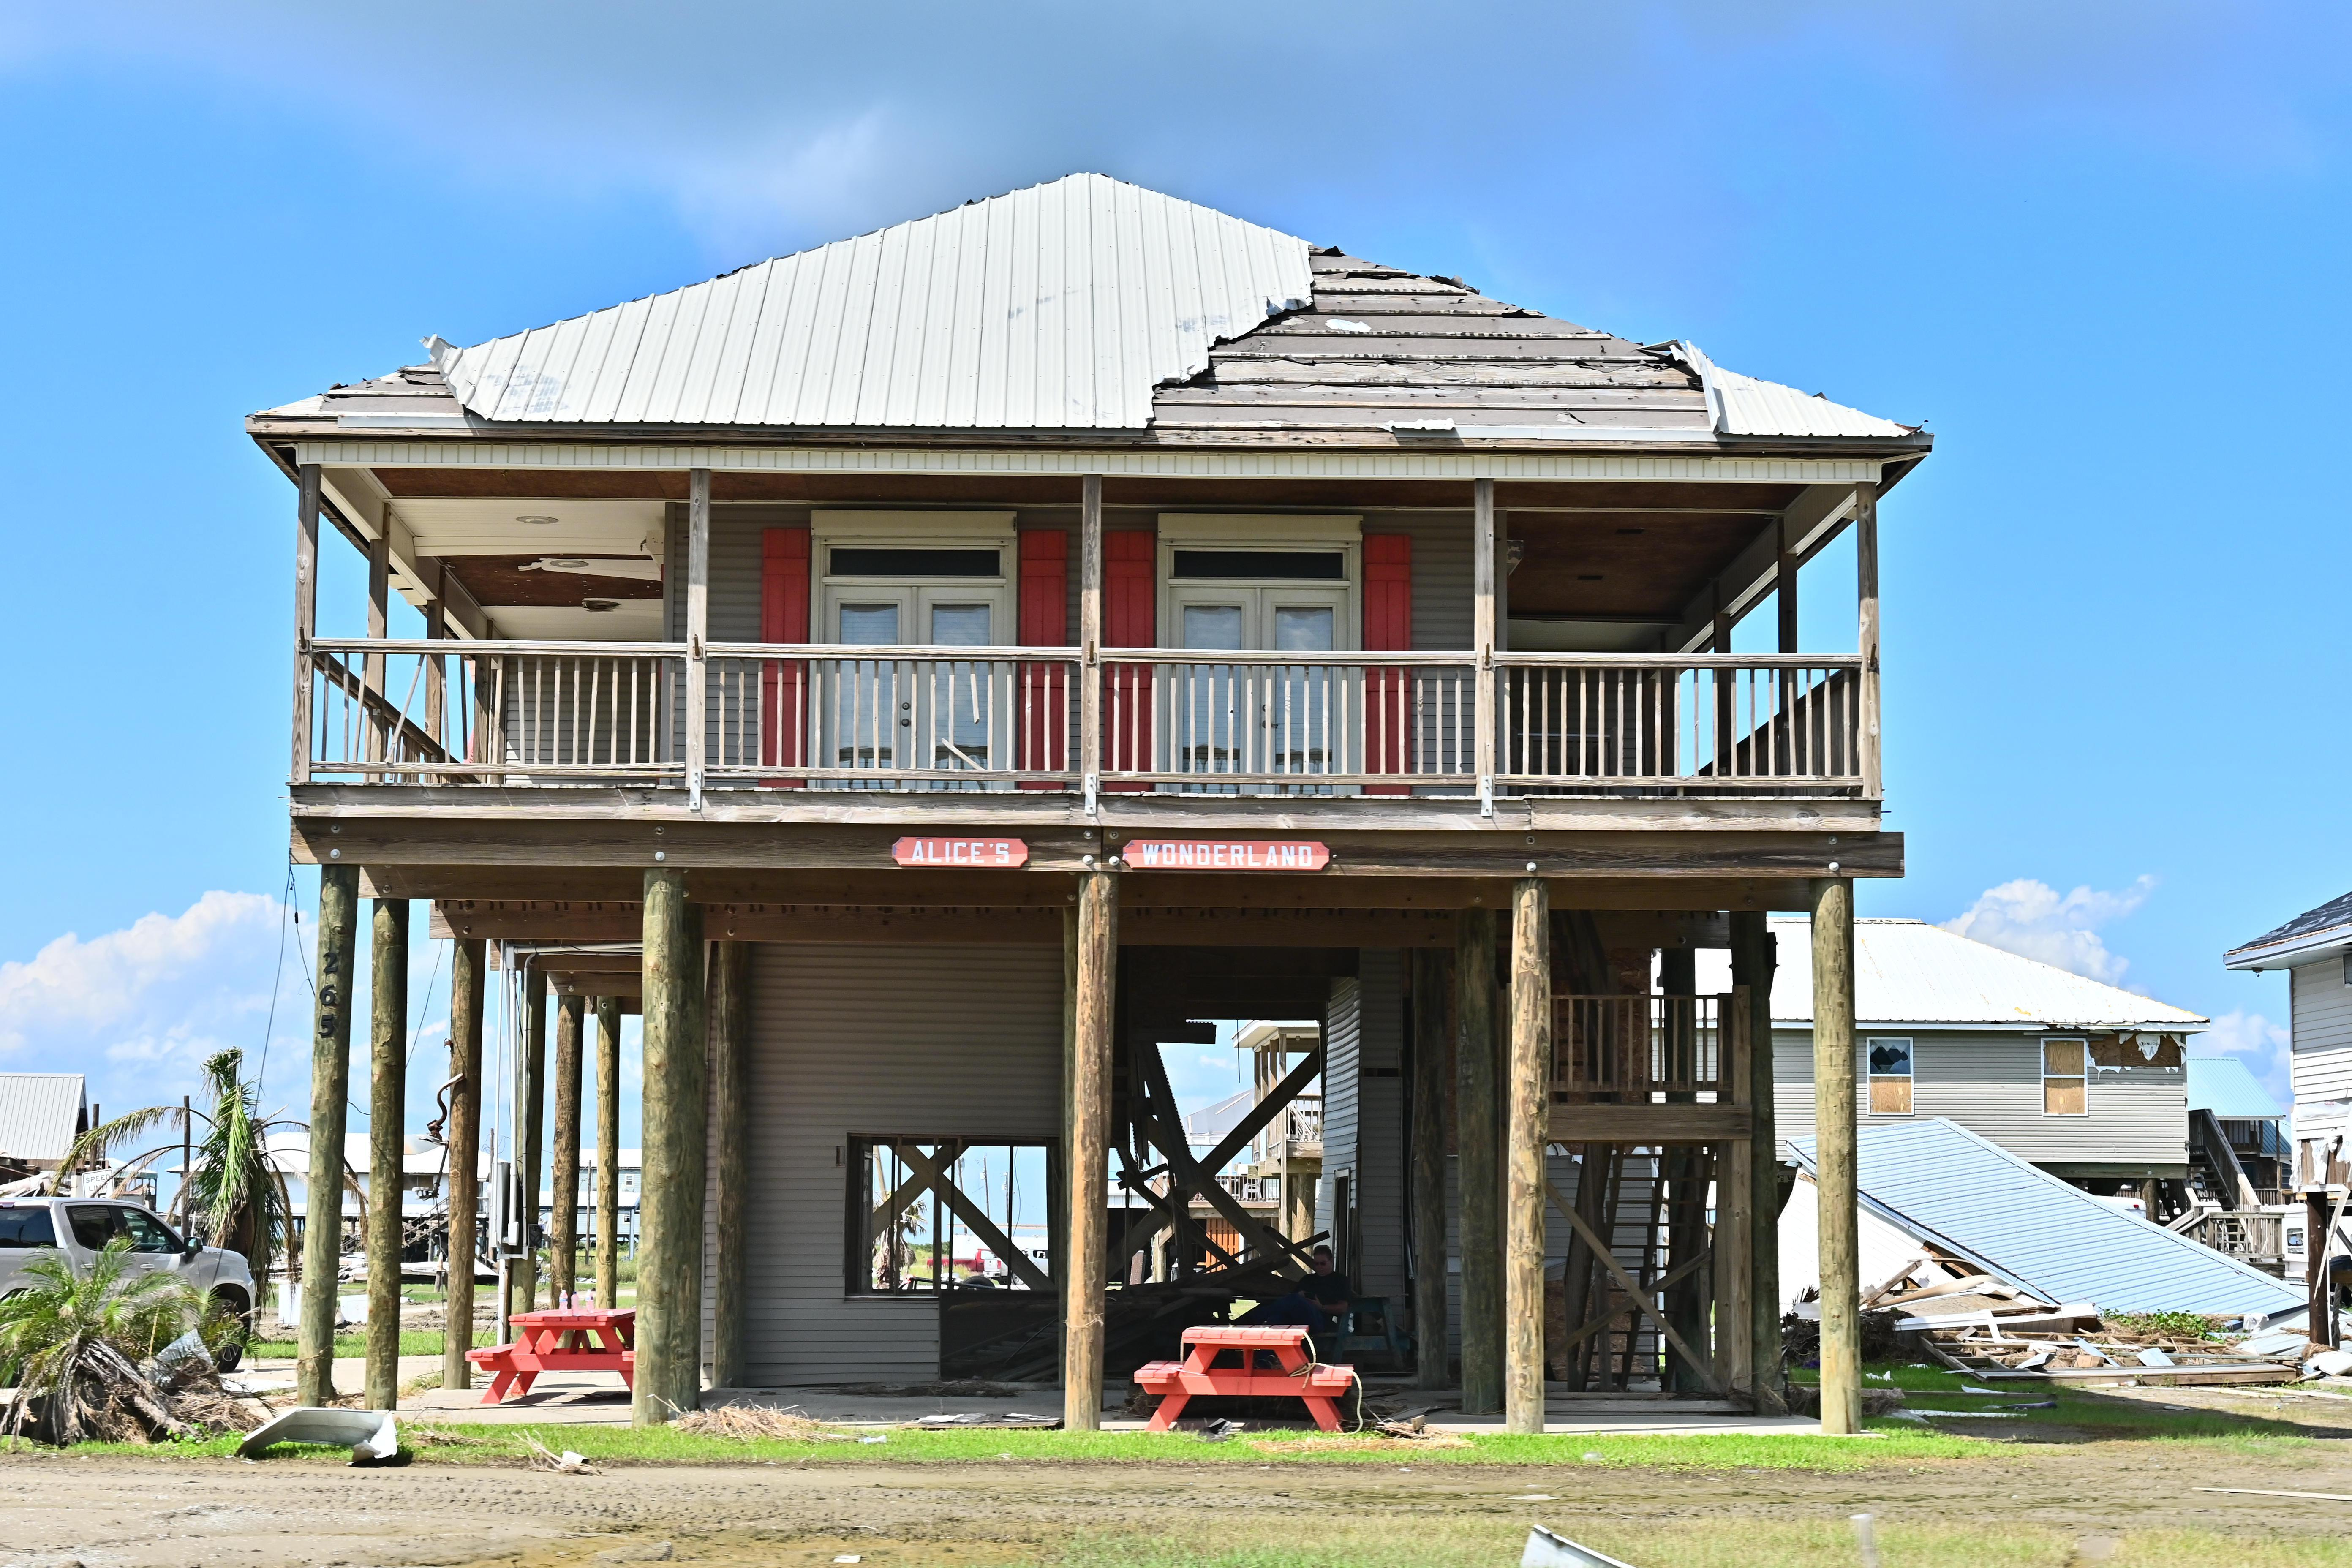major: (259, 131, 1923, 1419)
